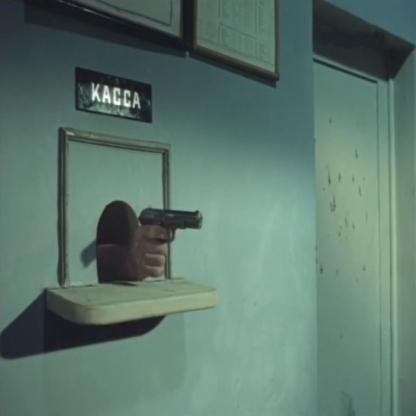gun: (142, 187, 215, 247)
